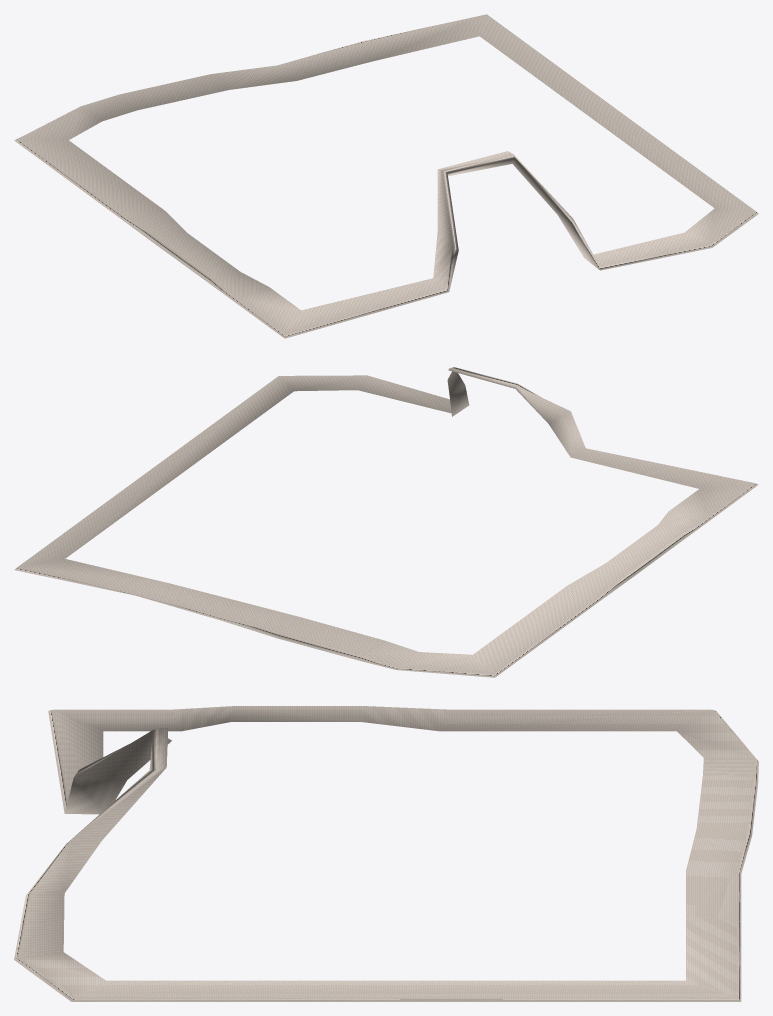
The model's file is kd_stage_135ded_4_115_bounded.glb.
3 renders of one model, top to bottom at view 1: azimuth 30°, elevation 25°; view 2: azimuth 150°, elevation 25°; view 3: azimuth 270°, elevation 25°, orthographic. The views are drawn at different scales.
Visible parts, largest first — view 1: kd_stage_135ded_4_115_bounded; view 2: kd_stage_135ded_4_115_bounded; view 3: kd_stage_135ded_4_115_bounded.
Boxes of the visible parts, box(x1,y1,x2,y2) form: kd_stage_135ded_4_115_bounded: box(14, 14, 758, 338); kd_stage_135ded_4_115_bounded: box(14, 367, 758, 677); kd_stage_135ded_4_115_bounded: box(14, 706, 758, 1001).
Size of the model in its own units: 2.04 by 0.35 by 2.21.
1 material, 1 textured.
